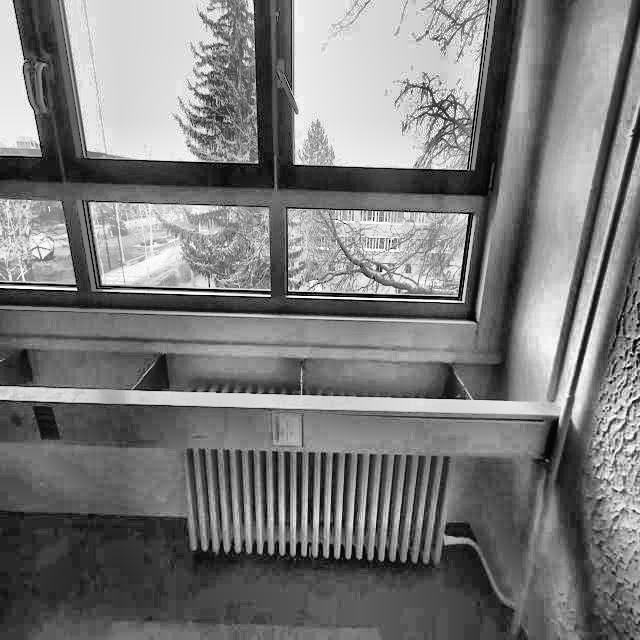ff: (135, 84, 248, 179)
